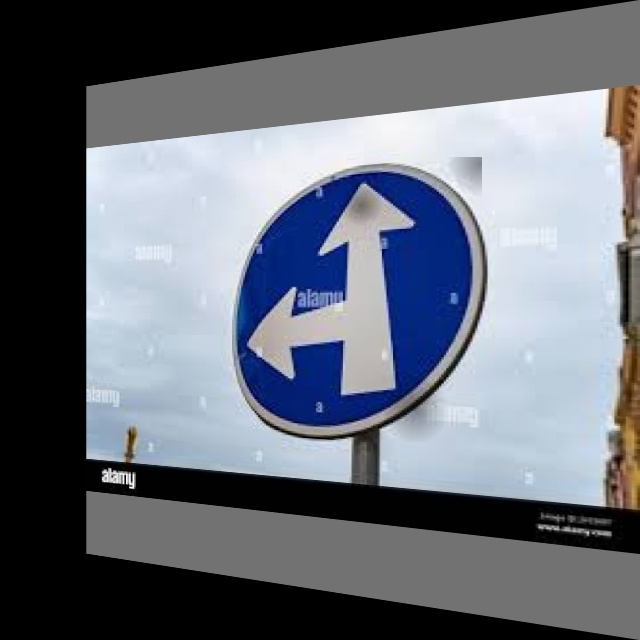Compulsory_Ahead_or_Turn_Left: (238, 157, 482, 442)
